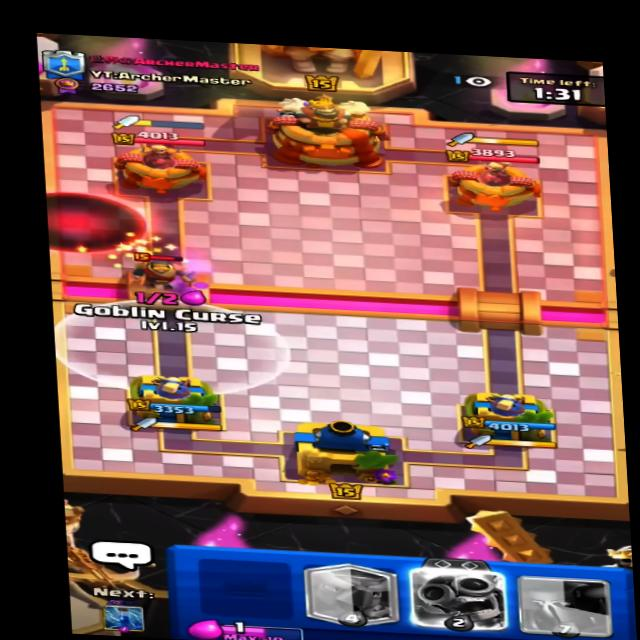knight: (122, 252, 192, 290)
